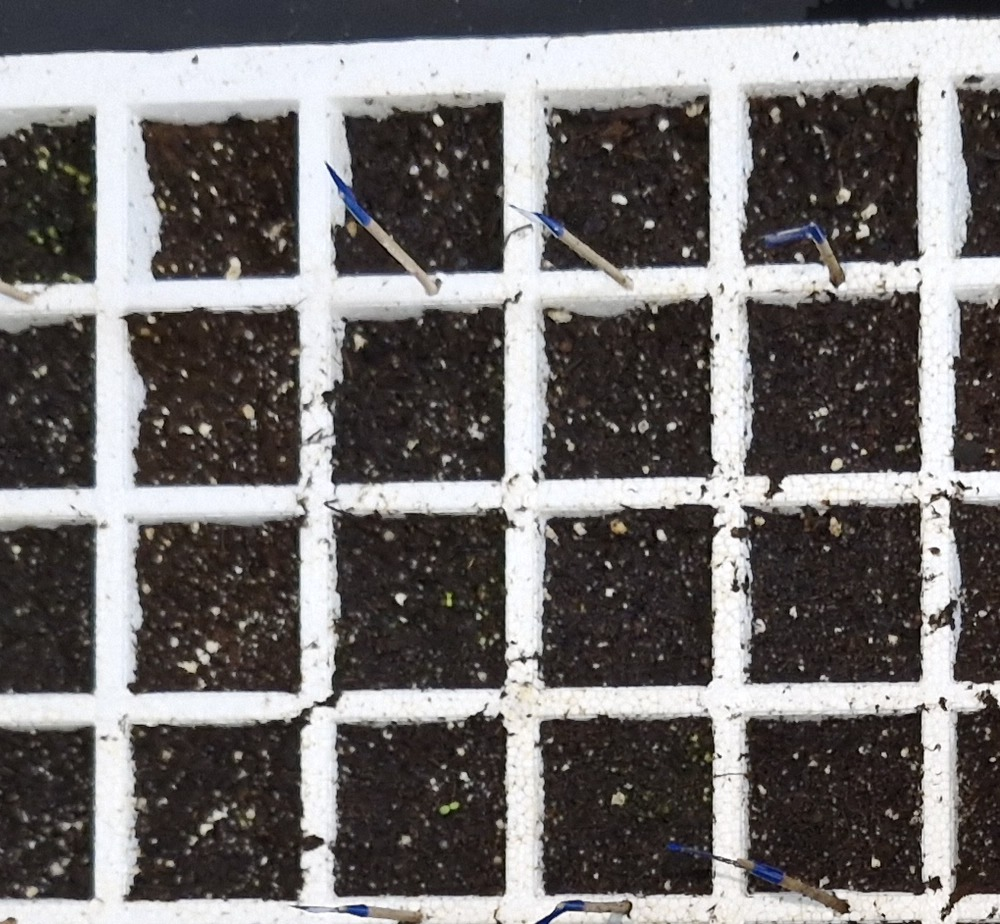Germinacao: (440, 801, 460, 814)
